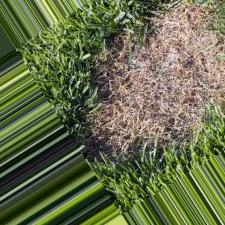patch: (121, 38, 185, 135), (166, 19, 206, 103), (100, 67, 126, 148)
